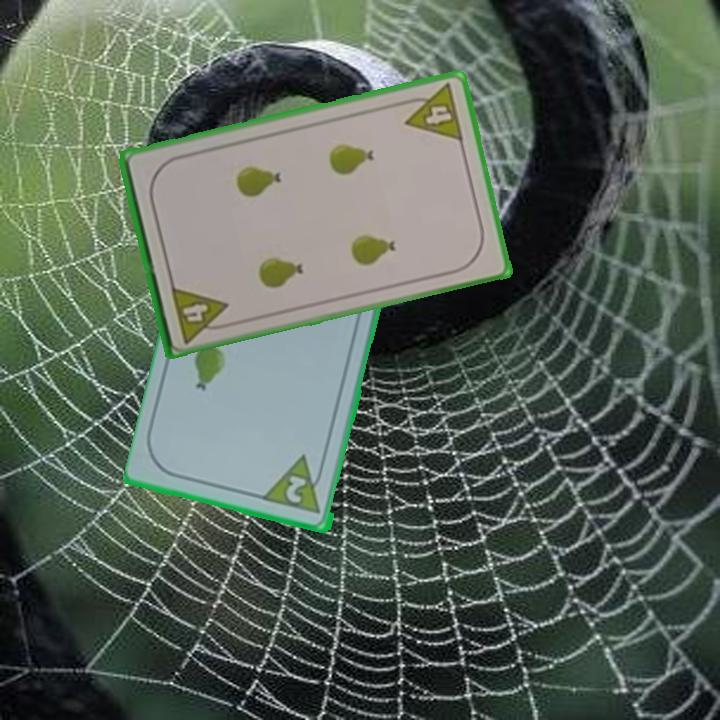2p: (262, 452, 329, 518)
4p: (397, 80, 466, 144), (167, 282, 234, 346)
